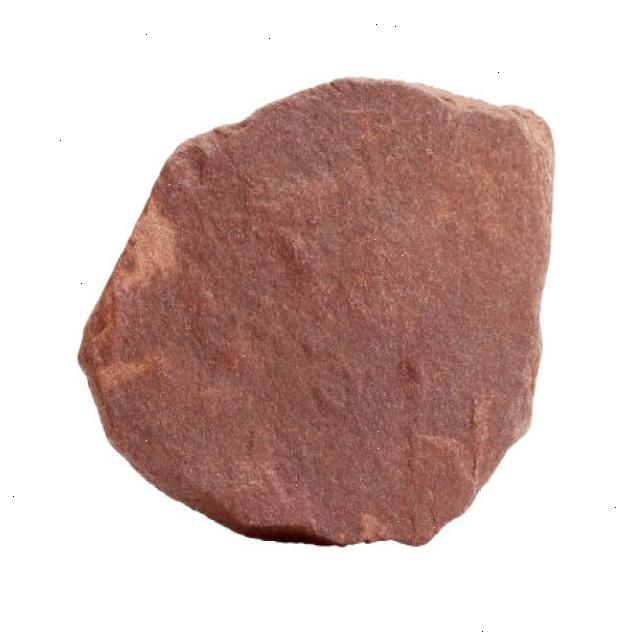Metamorphic: (86, 72, 564, 560)
